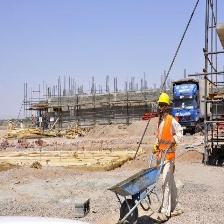helmet: (157, 90, 172, 106)
person: (152, 89, 185, 212)
vest: (158, 115, 179, 160)
